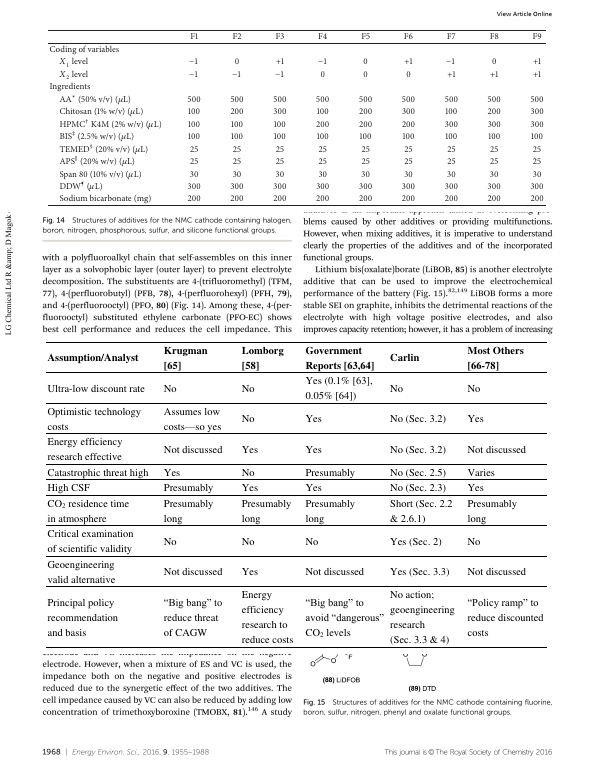borderless: (46, 340, 547, 647), (46, 28, 546, 205)
cell: (389, 588, 456, 647), (305, 594, 385, 640), (466, 594, 545, 639), (46, 596, 119, 639), (241, 588, 294, 647), (163, 594, 223, 639), (46, 405, 142, 433), (46, 527, 135, 556), (46, 497, 130, 525), (46, 435, 123, 464), (305, 343, 375, 372), (305, 374, 374, 403), (46, 558, 116, 586), (389, 497, 454, 525), (58, 115, 163, 132), (466, 343, 525, 372), (163, 405, 222, 434), (58, 141, 149, 157), (466, 497, 518, 525), (163, 497, 214, 525), (241, 497, 292, 525), (305, 497, 356, 525), (46, 466, 149, 479), (163, 343, 209, 372), (46, 351, 139, 365), (46, 382, 146, 395), (58, 104, 144, 119), (241, 343, 285, 372), (58, 166, 143, 181), (58, 153, 136, 169), (58, 128, 135, 144), (58, 91, 132, 107), (58, 194, 152, 205), (389, 565, 451, 579), (466, 565, 527, 579), (163, 565, 223, 579), (305, 565, 365, 579), (389, 412, 447, 426), (389, 481, 447, 495), (466, 443, 527, 456), (163, 443, 223, 456), (389, 443, 447, 456), (389, 466, 447, 479), (58, 178, 104, 194), (48, 45, 120, 55), (163, 481, 214, 495), (389, 535, 443, 548), (305, 466, 356, 479), (46, 481, 91, 495), (58, 66, 89, 83), (58, 54, 89, 70), (48, 82, 91, 93), (389, 351, 420, 365), (466, 466, 496, 479), (466, 412, 485, 426), (466, 481, 485, 495), (305, 412, 323, 426), (241, 481, 259, 495), (305, 481, 323, 495), (241, 565, 259, 579), (241, 443, 259, 456), (305, 443, 323, 456), (163, 466, 181, 479), (241, 412, 256, 426), (163, 382, 178, 395), (241, 382, 256, 395), (389, 382, 404, 395), (466, 382, 481, 395), (241, 466, 256, 479), (163, 535, 178, 548), (241, 535, 256, 548), (466, 535, 481, 548), (188, 66, 200, 82), (231, 66, 243, 82), (274, 66, 286, 82), (305, 535, 319, 548), (188, 54, 200, 69), (317, 54, 329, 69), (229, 107, 245, 118), (229, 194, 245, 205), (446, 54, 457, 69), (272, 107, 287, 118), (358, 107, 373, 118), (401, 107, 416, 118), (487, 107, 502, 118), (530, 107, 545, 118), (315, 119, 330, 130), (358, 119, 373, 130), (401, 119, 416, 130), (444, 119, 459, 130), (487, 119, 502, 130), (530, 119, 545, 130), (187, 194, 202, 205), (272, 194, 287, 205), (315, 194, 330, 205), (358, 194, 373, 205), (401, 194, 416, 205), (444, 194, 459, 205), (487, 194, 502, 205), (530, 194, 545, 205), (229, 95, 245, 105), (229, 182, 245, 192), (187, 107, 201, 118), (316, 107, 330, 118), (444, 107, 458, 118), (187, 119, 201, 130), (230, 119, 244, 130), (273, 119, 287, 130), (187, 132, 201, 143), (230, 132, 244, 143), (273, 132, 287, 143), (316, 132, 330, 143), (359, 132, 373, 143), (401, 132, 415, 143), (444, 132, 458, 143), (487, 132, 501, 143), (530, 132, 544, 143), (187, 95, 202, 105), (272, 95, 287, 105), (315, 95, 330, 105), (358, 95, 373, 105), (401, 95, 416, 105), (444, 95, 459, 105), (487, 95, 502, 105), (530, 95, 545, 105), (187, 182, 202, 192), (272, 182, 287, 192), (315, 182, 330, 192), (358, 182, 373, 192), (401, 182, 416, 192), (444, 182, 459, 192), (487, 182, 502, 192), (530, 182, 545, 192), (274, 32, 285, 43), (317, 32, 328, 43), (360, 32, 371, 43), (403, 32, 414, 43), (446, 32, 457, 43), (489, 32, 500, 43), (532, 32, 543, 43), (403, 57, 414, 68), (360, 144, 371, 155), (403, 144, 414, 155), (446, 144, 457, 155), (317, 169, 328, 180), (360, 169, 371, 180), (403, 169, 414, 180), (446, 169, 457, 180), (189, 32, 199, 43), (232, 32, 242, 43), (275, 57, 285, 68), (532, 57, 542, 68), (189, 144, 199, 155), (232, 144, 242, 155), (275, 144, 285, 155), (318, 144, 328, 155), (489, 144, 499, 155), (532, 144, 542, 155), (360, 157, 371, 167), (403, 157, 414, 167), (446, 157, 457, 167), (189, 169, 199, 180), (232, 169, 242, 180), (275, 169, 285, 180), (489, 169, 499, 180), (532, 169, 542, 180), (446, 70, 456, 80), (489, 70, 499, 80), (532, 70, 542, 80), (189, 157, 199, 167), (232, 157, 242, 167), (275, 157, 285, 167), (318, 157, 328, 167), (489, 157, 499, 167), (532, 157, 542, 167), (362, 57, 369, 68), (362, 70, 369, 80), (405, 70, 412, 80), (234, 57, 240, 68), (491, 57, 497, 68), (320, 70, 326, 80)
